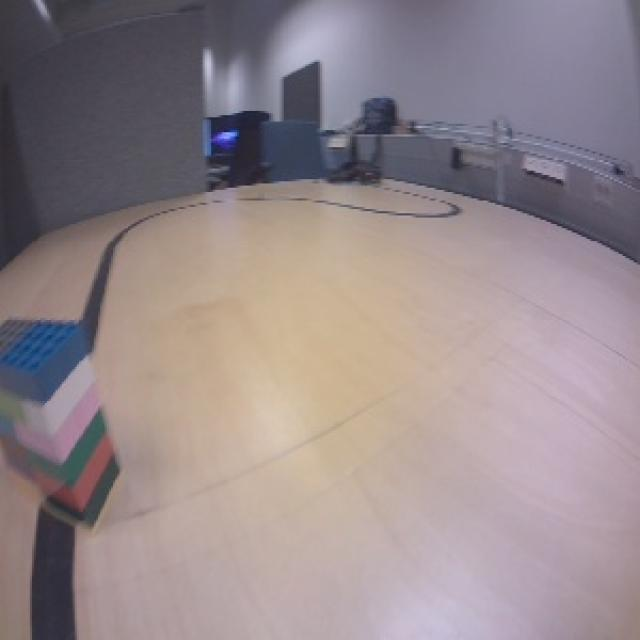obstacle: (1, 314, 128, 540)
